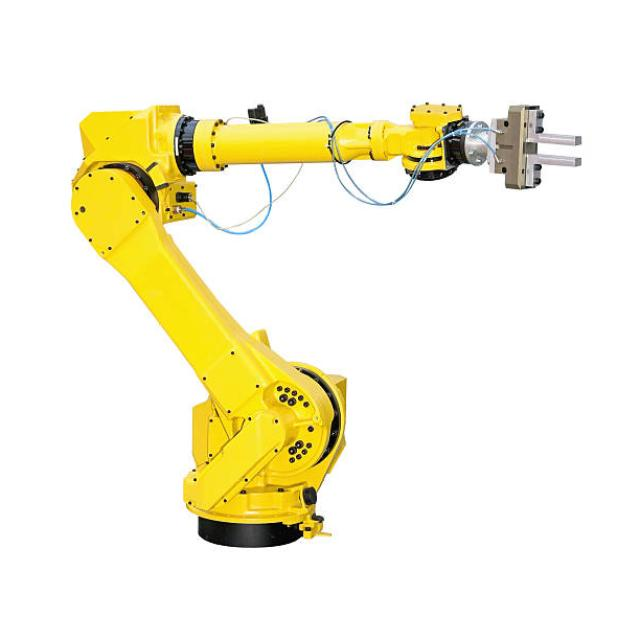Robotic-arm: (41, 89, 588, 558)
